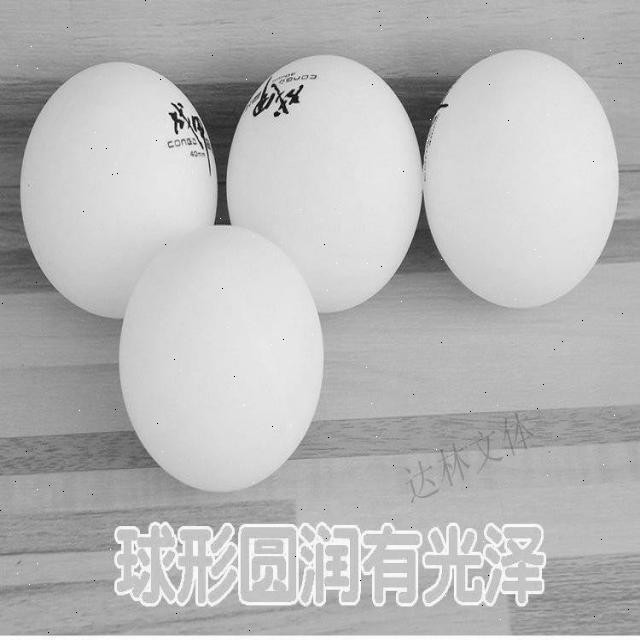ping-pong-ball: (114, 220, 321, 485), (22, 62, 214, 316), (425, 52, 613, 310), (227, 55, 416, 308)
